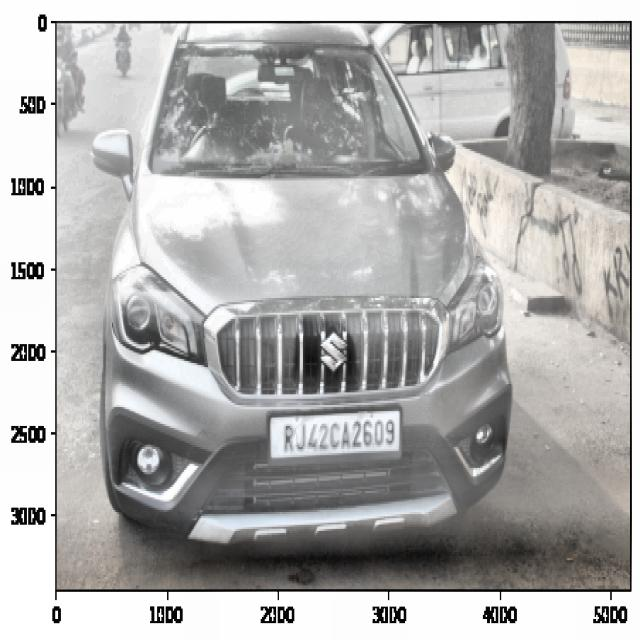license_plate: (277, 416, 400, 459)
